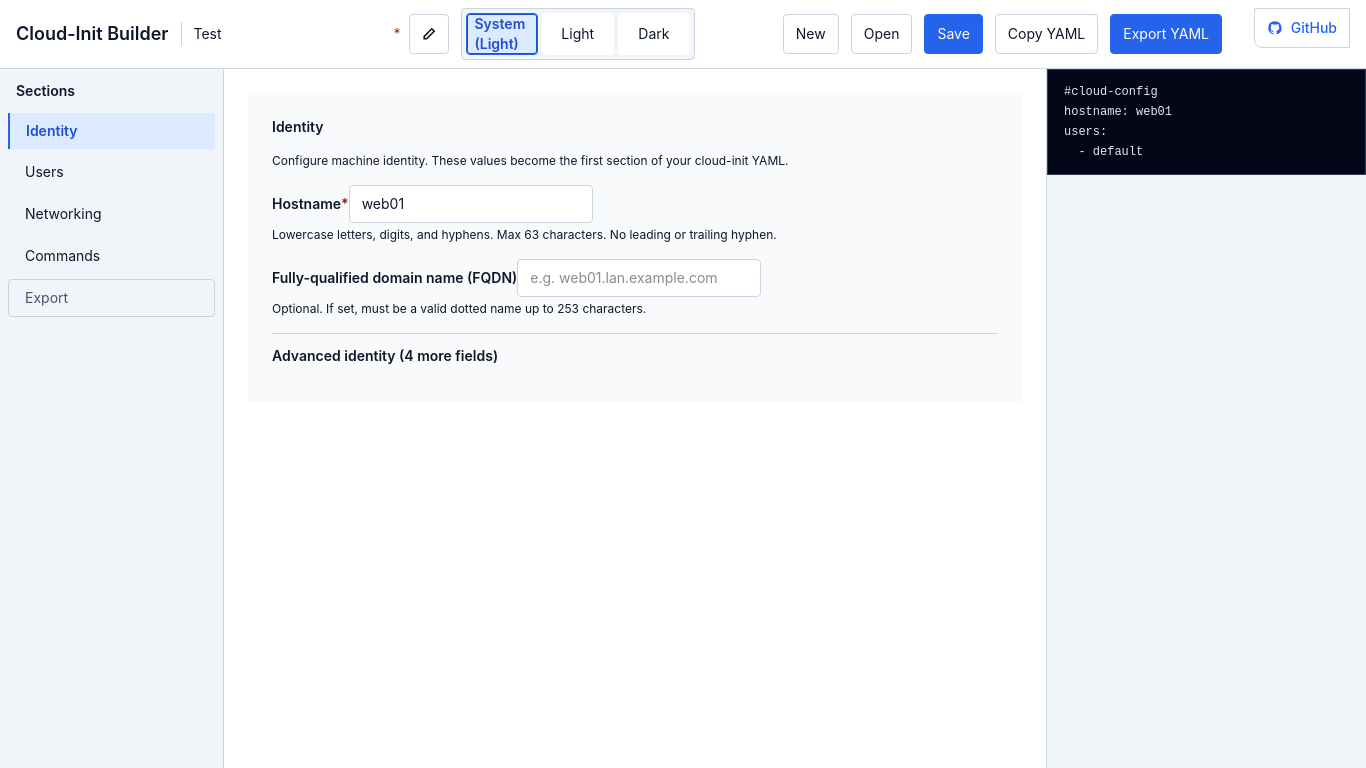
Test: MainLayout commands workflow › projects commands into preview YAML through the shared generator input
This screenshot has width=1366, height=768.
Click the button "Commands". click: (112, 256)
box: [8,237,215,275]
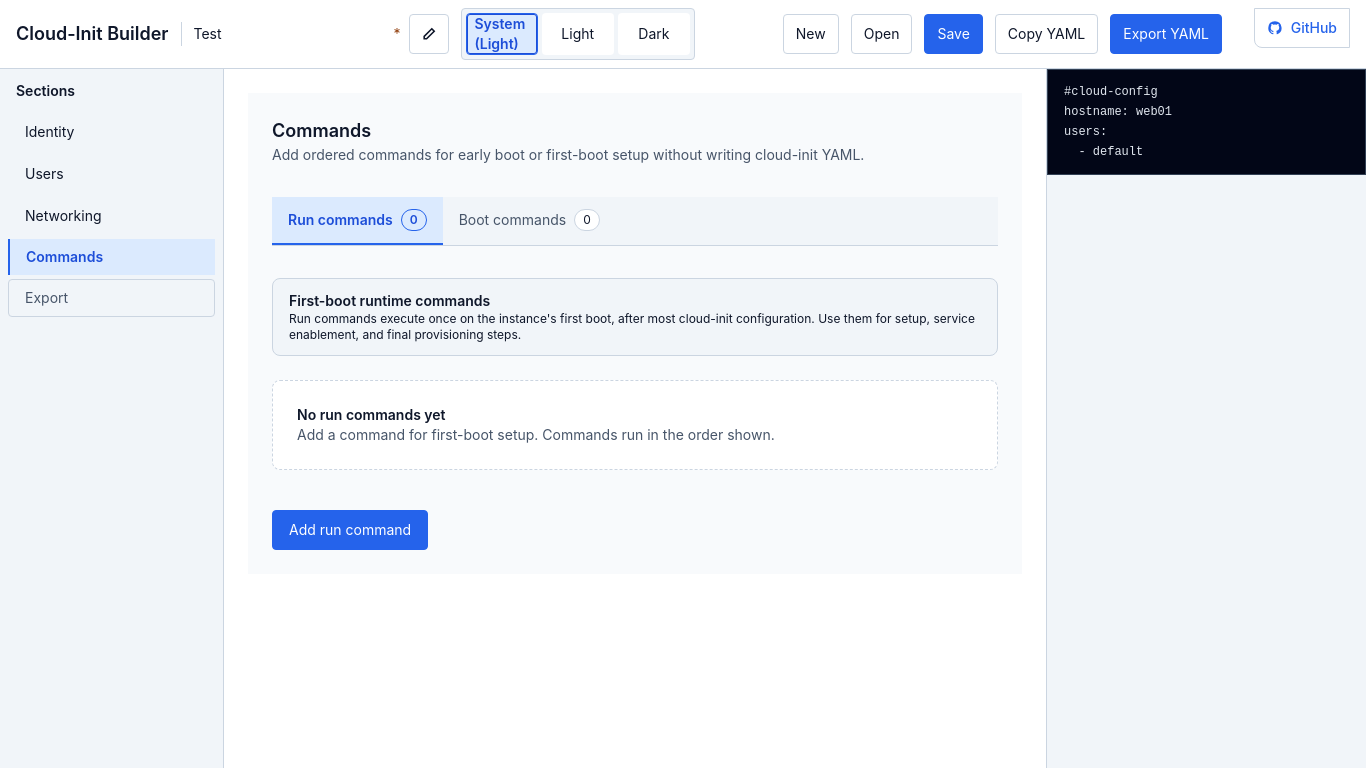
Click the button "Add run command". click: (350, 530)
box: [272,510,428,550]
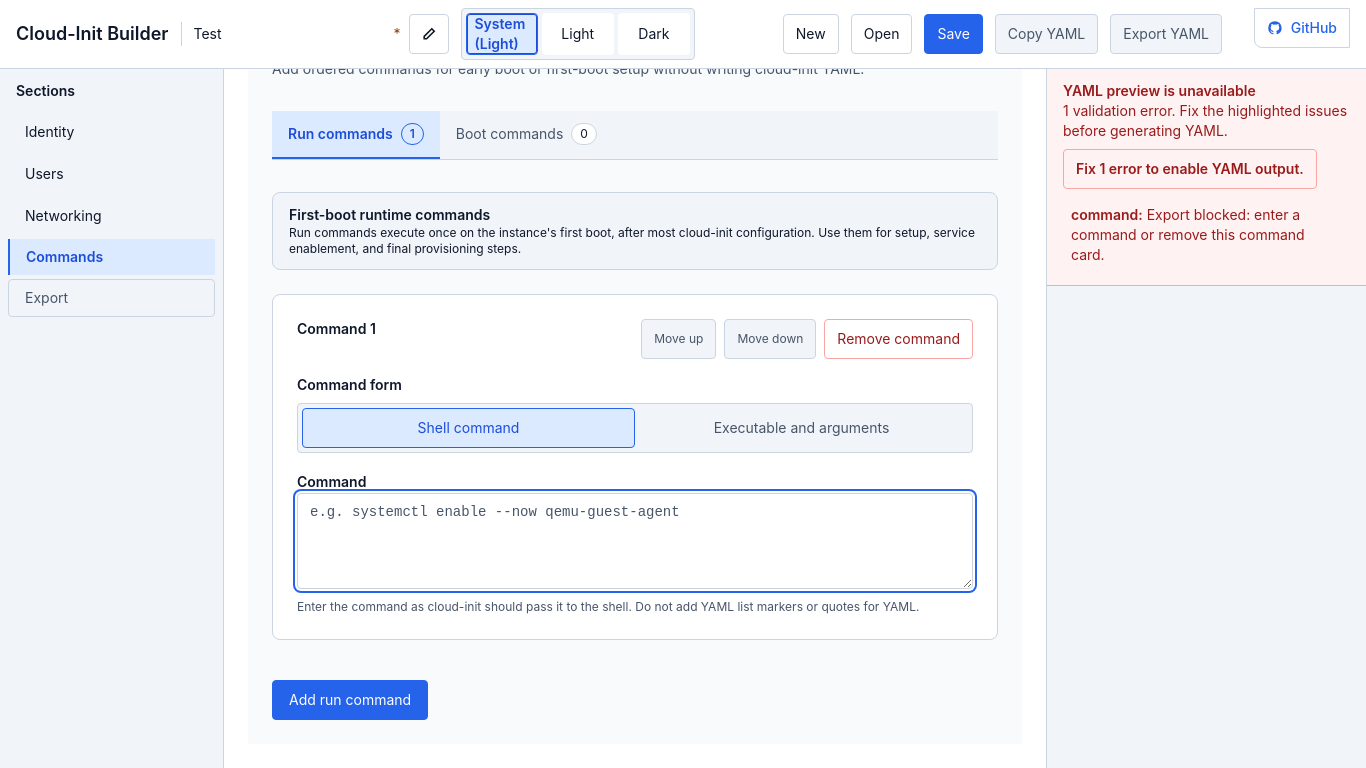
Type "apt-get update" into the text box labelled "Command". click: (635, 541)
box: [297,493,973,589]
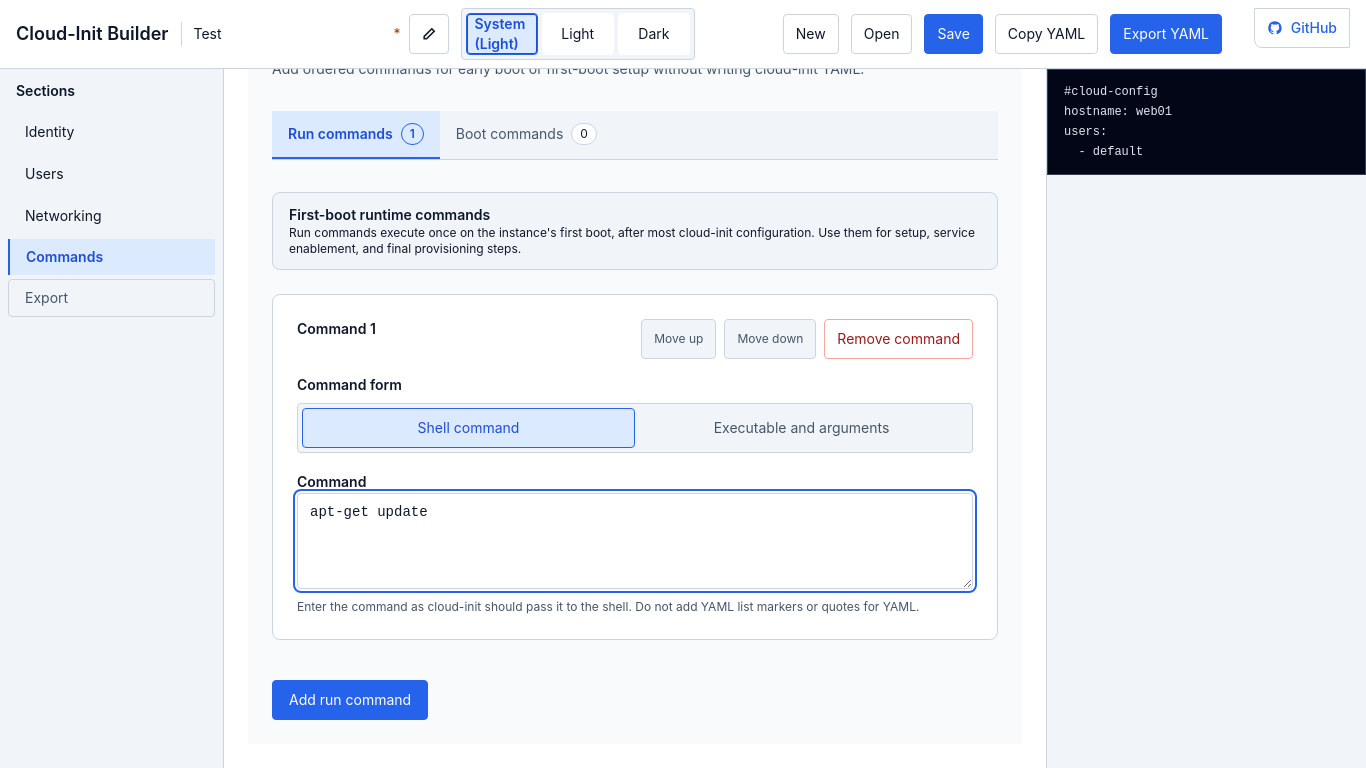
Click the tab "Boot commands 0". click: (526, 135)
box: [440,111,613,159]
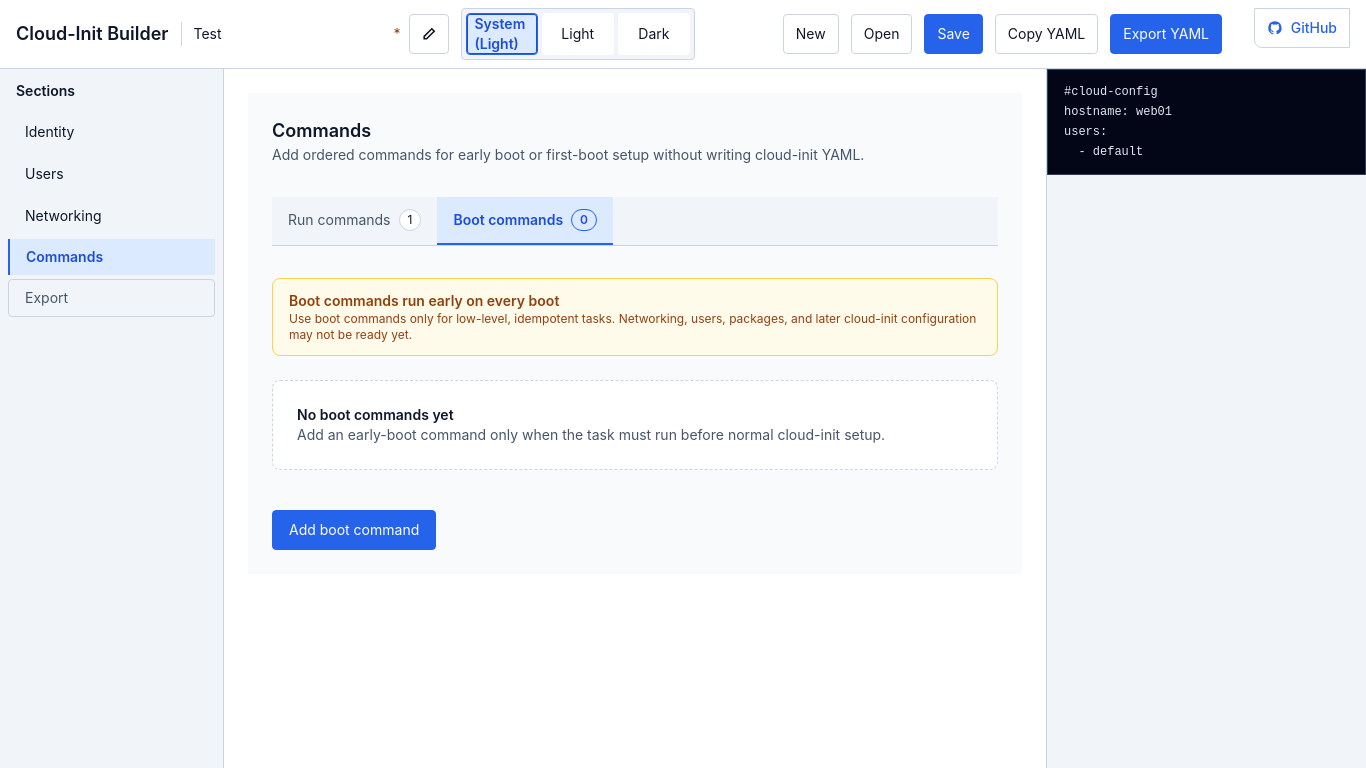
Click the button "Add boot command". click: (354, 530)
box: [272,510,436,550]
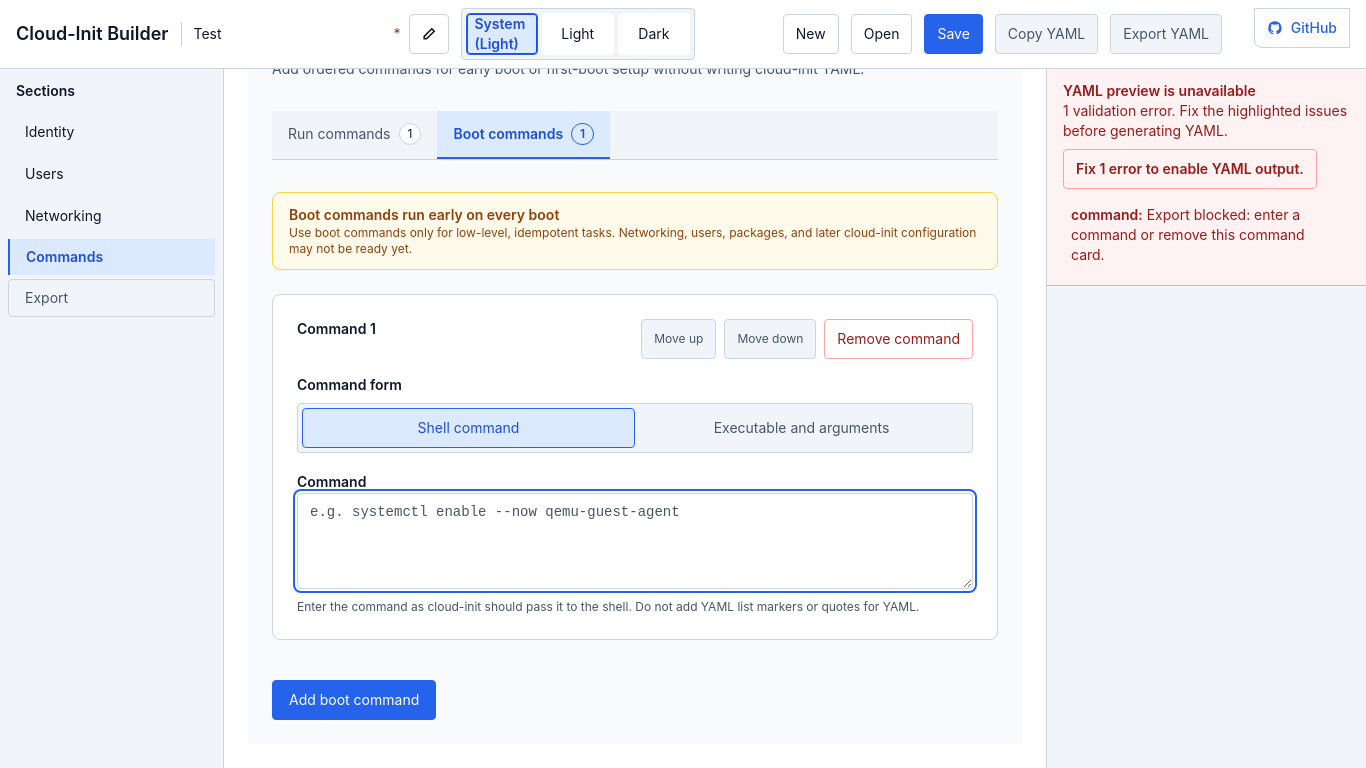
Type "mkdir -p /run/cloud-init-builder" into the text box labelled "Command". click: (635, 541)
box: [297,493,973,589]
Wait 300 ms
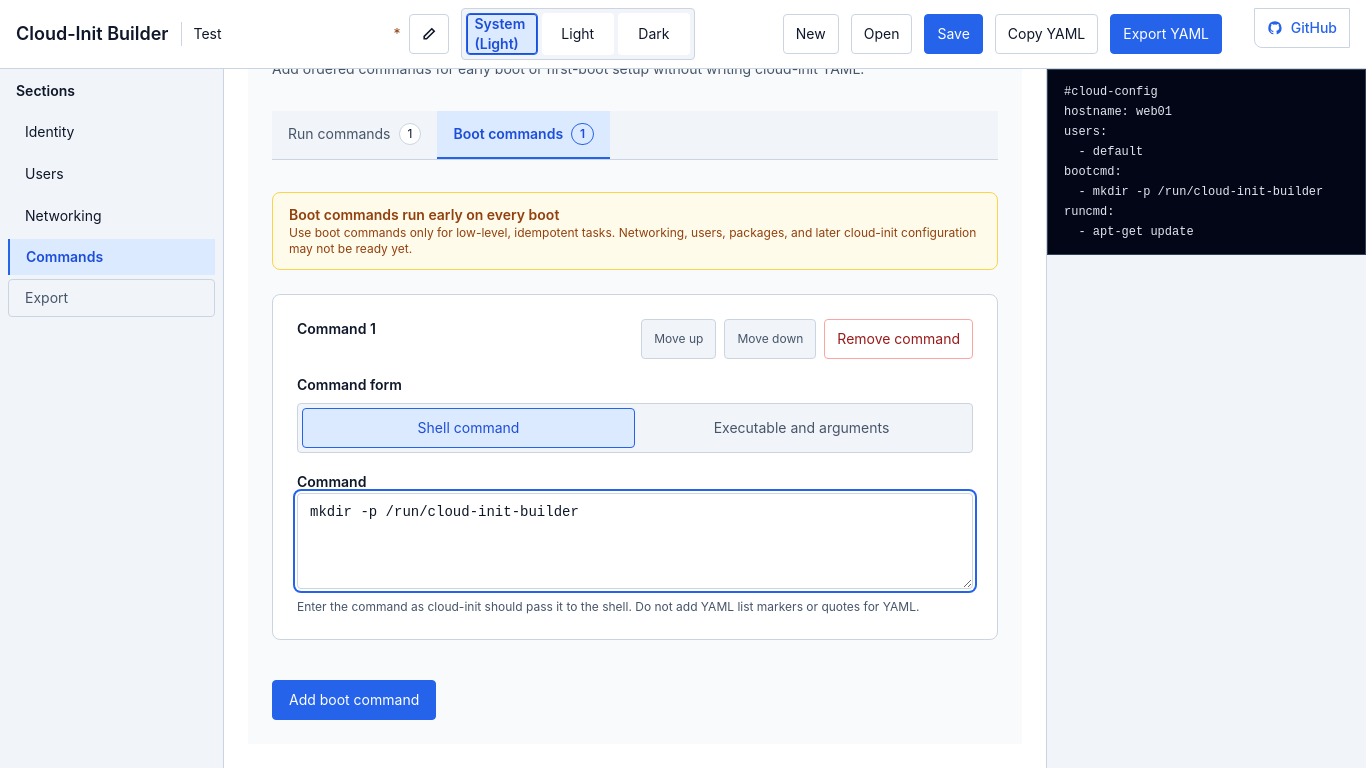
Now the text "bootcmd:" is shown, box [1064,85,1323,239]
Now the text "runcmd:" is shown, box [1064,85,1323,239]
Now the text "apt-get update" is shown, box [1064,85,1323,239]
